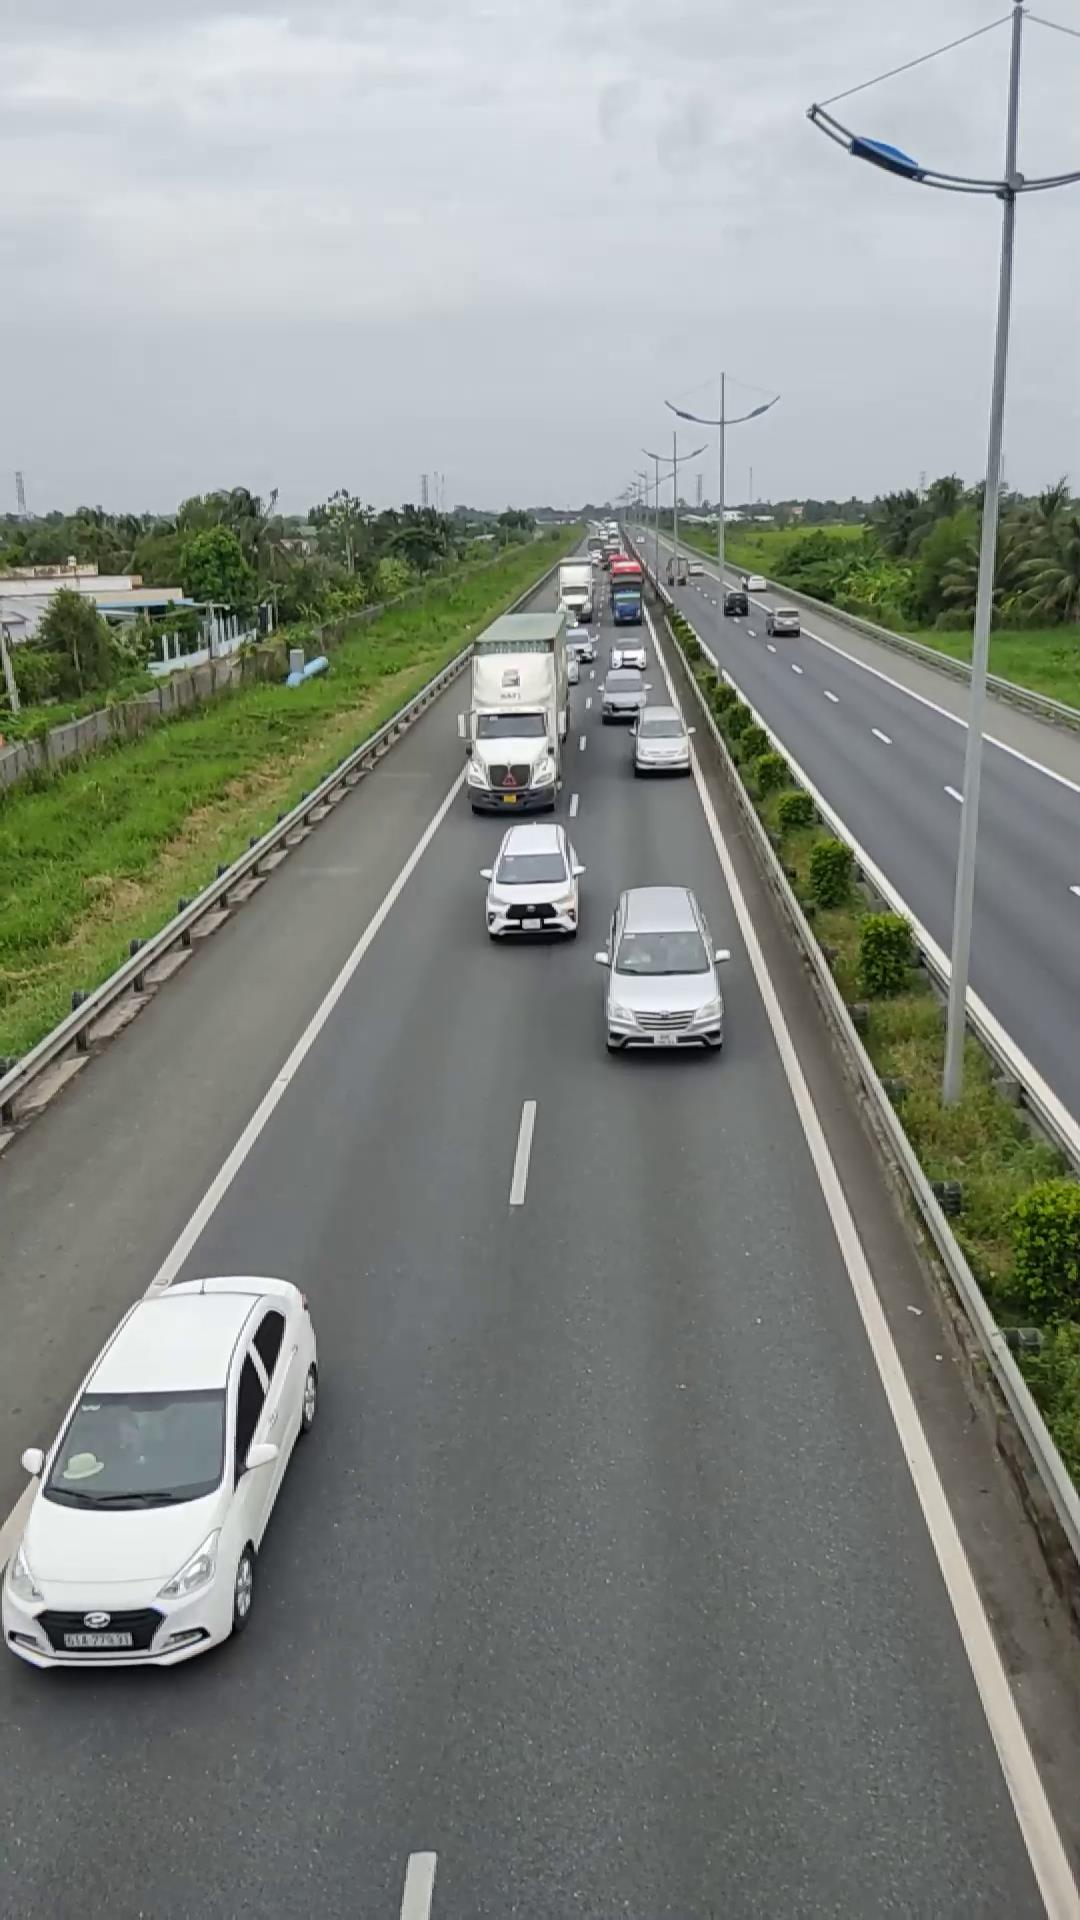car: (0, 1272, 323, 1671), (598, 884, 726, 1053), (481, 820, 585, 940), (630, 707, 694, 774)
container: (460, 608, 574, 814)
